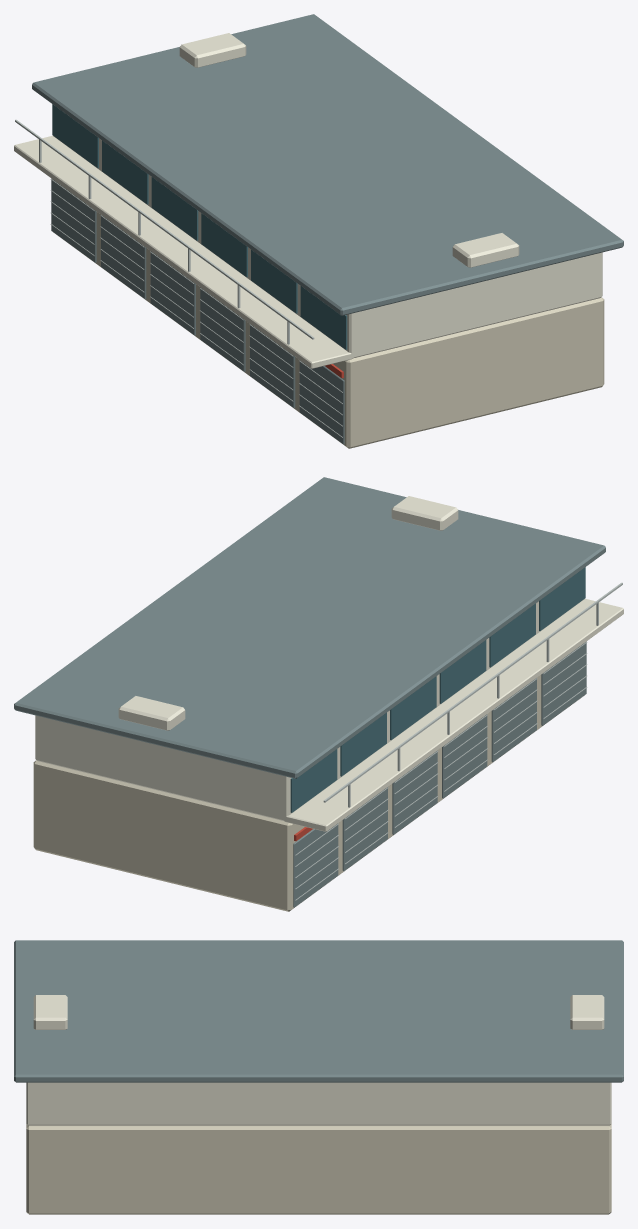
The model's file is ENV_Monza_PitModule_24m.glb.
3 renders of one model, top to bottom at view 1: azimuth 30°, elevation 25°; view 2: azimuth 150°, elevation 25°; view 3: azimuth 270°, elevation 25°, orthographic.
Parts seen in each view (by area): view 1: ENV_Monza_PitModule_24m; view 2: ENV_Monza_PitModule_24m; view 3: ENV_Monza_PitModule_24m.
Part boxes in pixels (bbox=[...]): ENV_Monza_PitModule_24m: bbox=[14, 14, 623, 448]; ENV_Monza_PitModule_24m: bbox=[14, 477, 623, 911]; ENV_Monza_PitModule_24m: bbox=[14, 940, 623, 1214].
Size of the model in its own units: 14.3 by 7.15 by 25.
